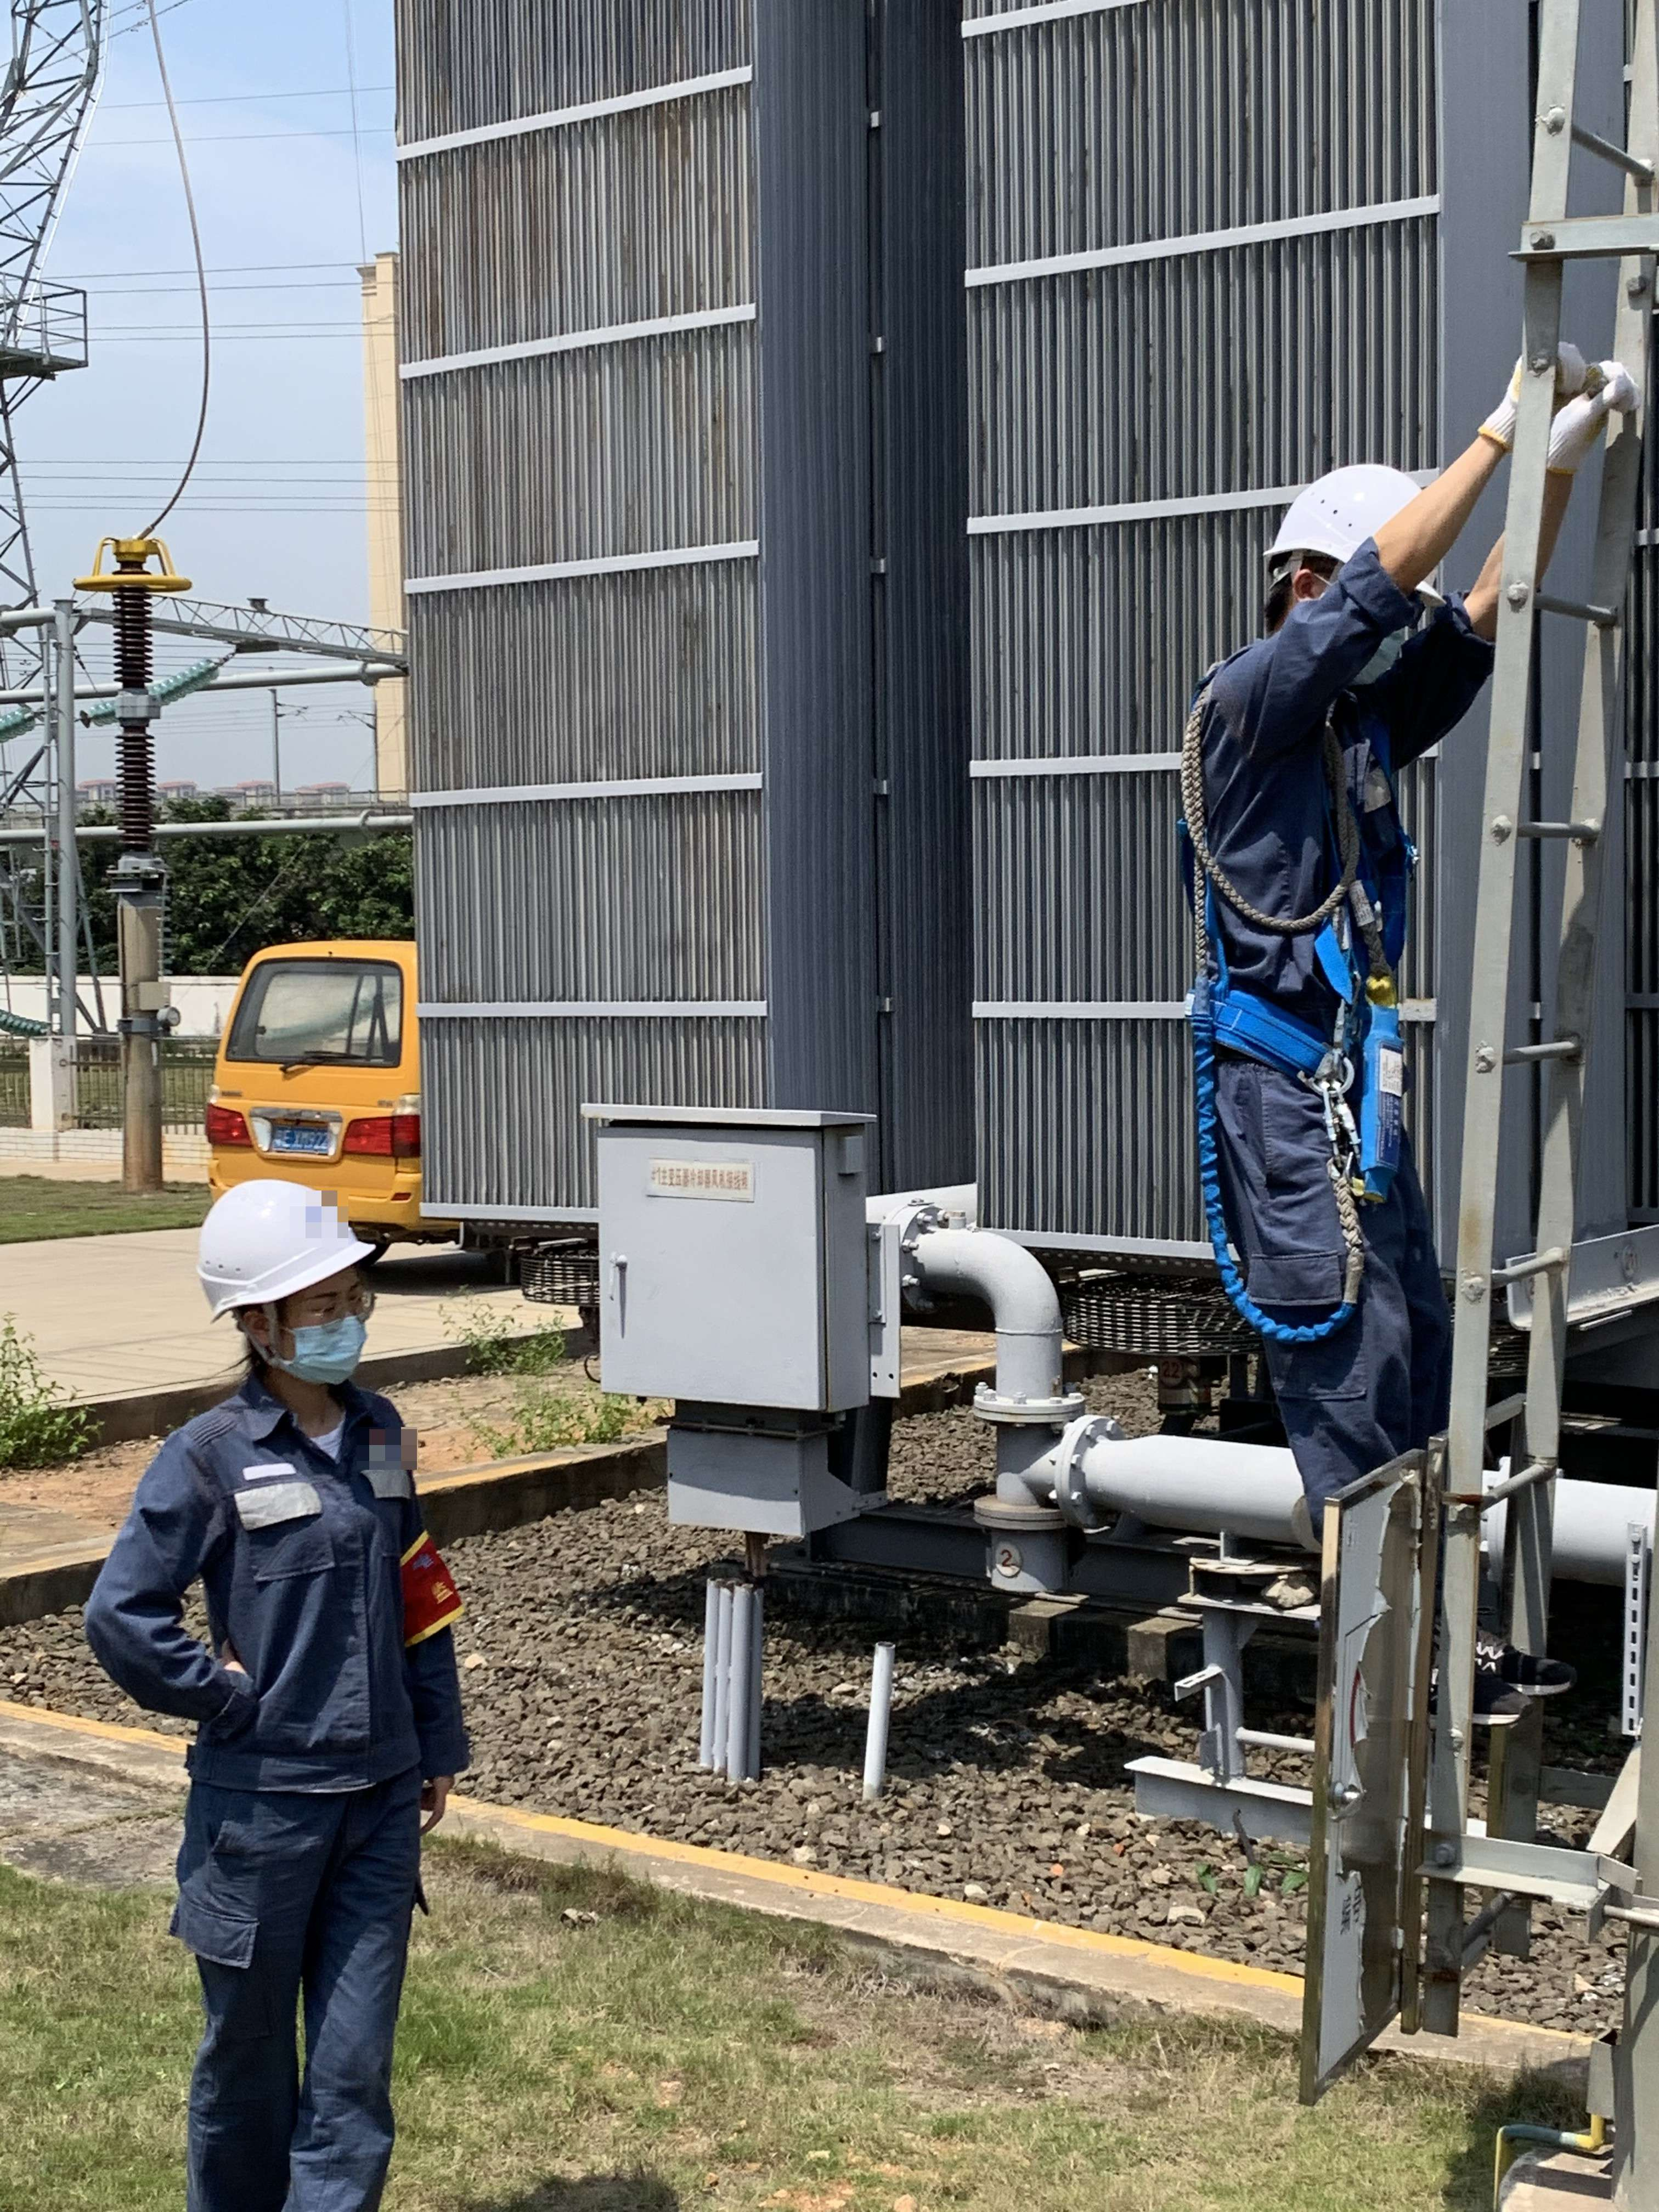downsuit: (169, 1813, 437, 2212), (1209, 1040, 1429, 1480)
upsuit: (77, 1388, 479, 1784), (1175, 540, 1473, 1001)
wrongtop: (1338, 442, 1480, 644)
